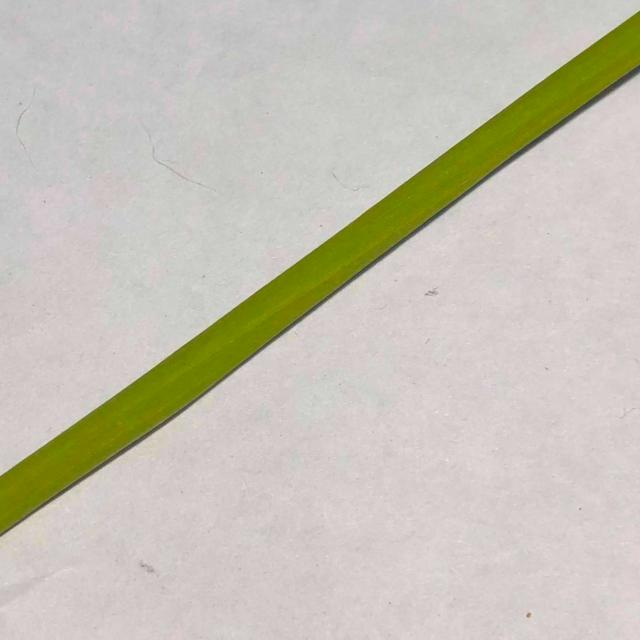Rice_Healthy: (0, 12, 640, 535)
